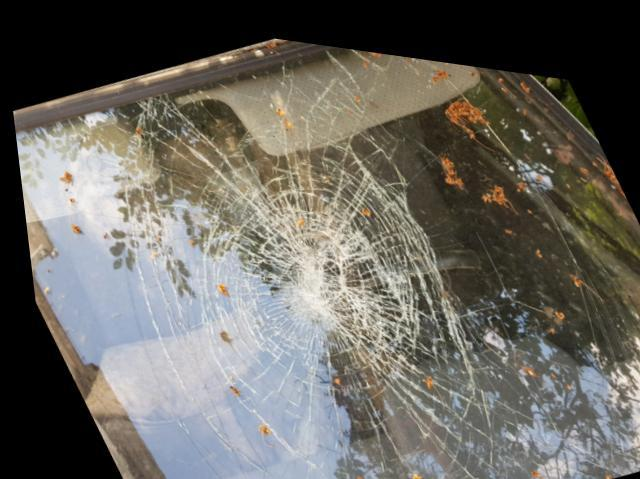glass shatter: (12, 37, 640, 479)
